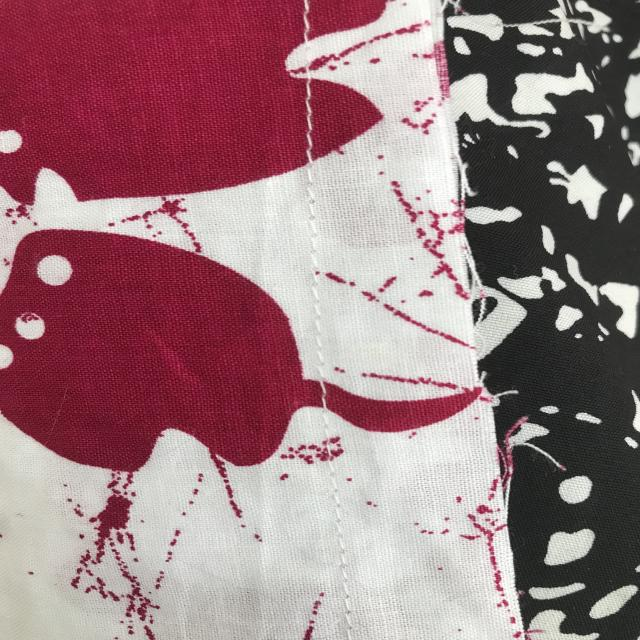good: (317, 498, 363, 600), (291, 183, 335, 263), (298, 89, 333, 155)
